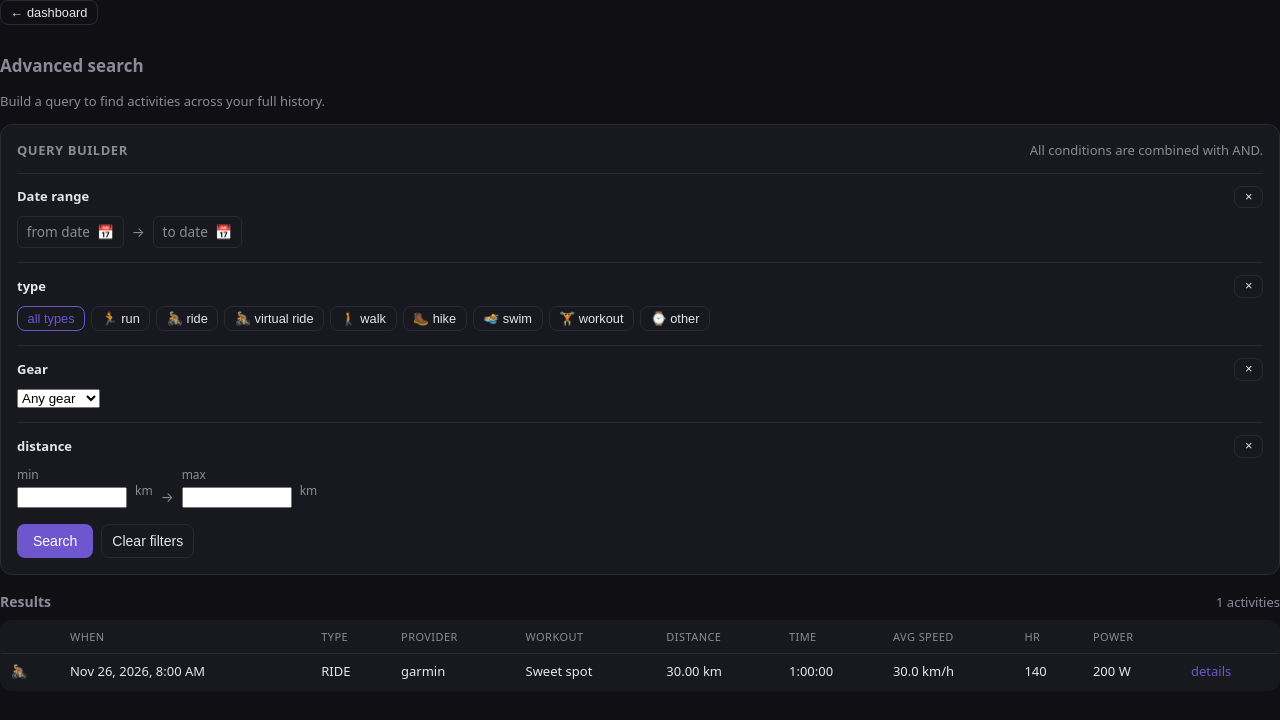
Test: AdvancedSearchSection › blocks an inverted distance range
The image size is (1280, 720).
Expected: the text "1 activities" is shown, [1216, 593, 1279, 612]
Step 1. Type "10" into the number field named "min distance" → (72, 497), box [17, 487, 127, 508]
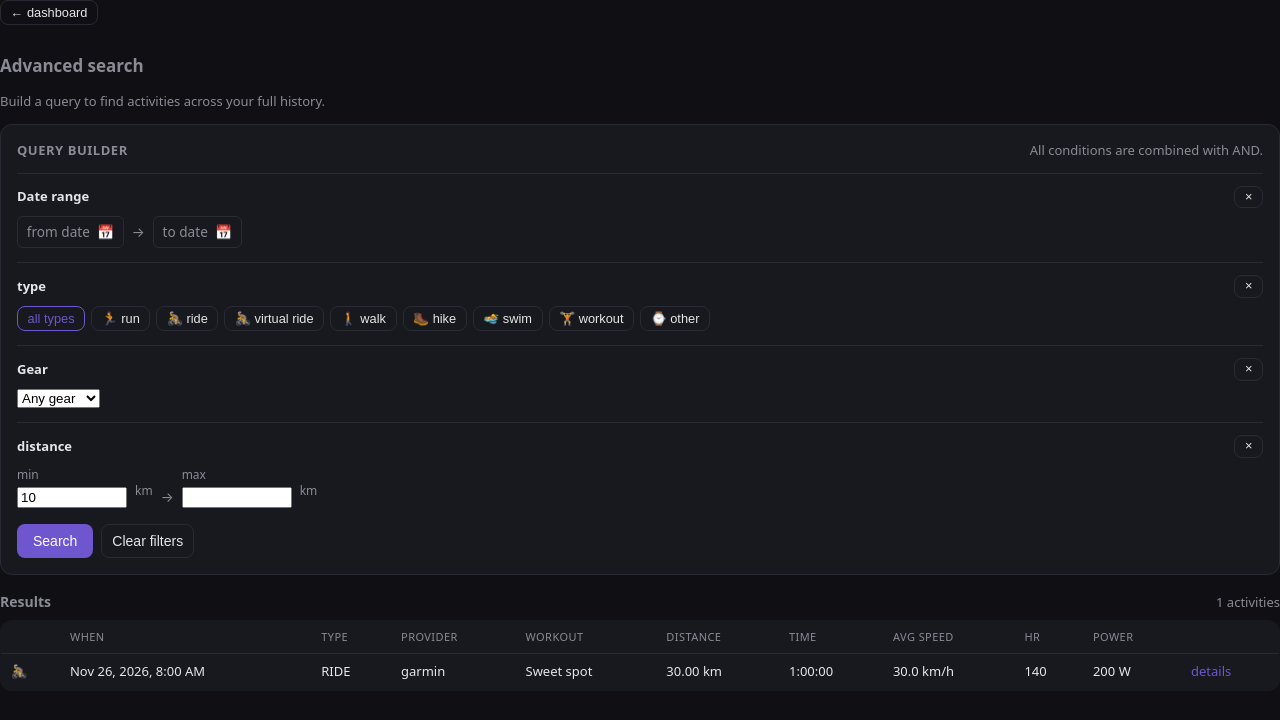
Step 2. Type "5" into the number field named "max distance" → (237, 497), box [182, 487, 292, 508]
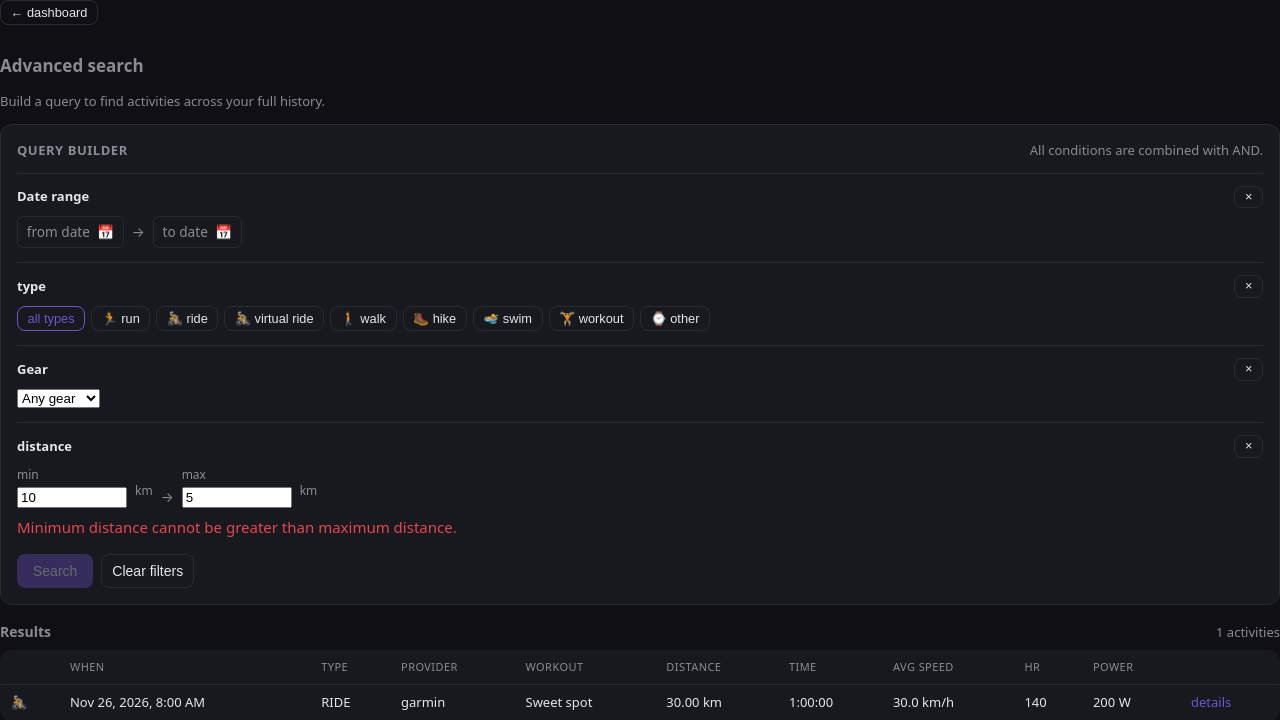
Expected: the text "Minimum distance cannot be greater than maximum distance." is shown, [17, 517, 457, 537]
Expected: the button "Search" is disabled, [17, 554, 93, 588]
